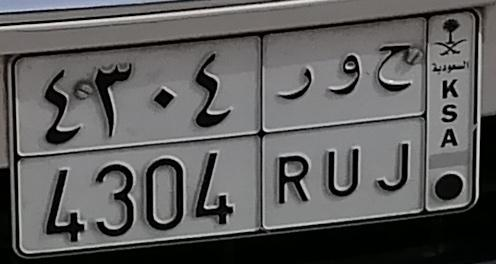0: (143, 84, 187, 231)
3: (93, 62, 136, 238)
4: (194, 50, 237, 225), (43, 67, 83, 244)
J: (374, 41, 412, 194)
R: (275, 64, 313, 205)
U: (325, 53, 362, 199)
